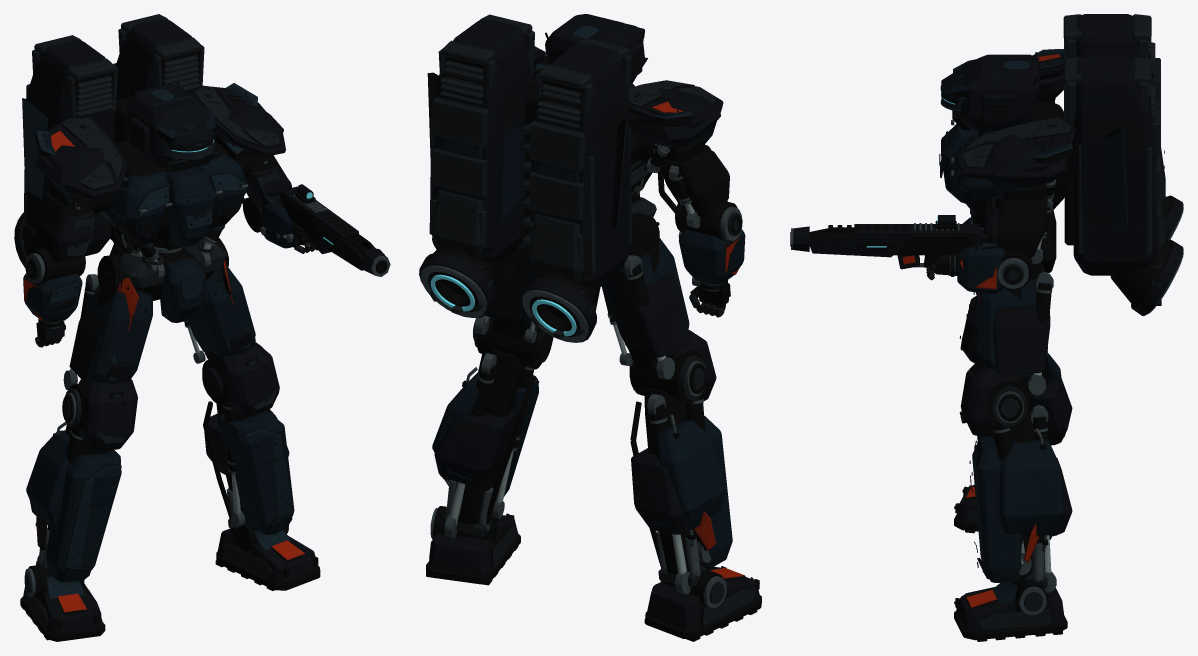
The model's file is m07-cangyan-v11.glb.
3 views of the same model, side by side, from view 1: azimuth 30°, elevation 25°; view 2: azimuth 150°, elevation 25°; view 3: azimuth 270°, elevation 25° (orthographic). The views are drawn at different scales.
Visible parts, largest first — view 1: M07_Upper_armor, M07_Upper_cangyan_armor, M07_Shin_L_armor, M07_Shin_R_armor, M07_Upper_tiechao_armor, M07_Thigh_L_armor, M07_Body_armor, M07_Rifle_armor, M07_Foot_R_armor, M07_Foot_L_armor, M07_Thigh_R_armor, M07_Upper_bailu_armor; view 2: M07_Upper_cangyan_armor, M07_Upper_tiechao_armor, M07_Shin_L_armor, M07_Shin_R_armor, M07_Upper_armor, M07_Thigh_L_armor, M07_Foot_L_armor, M07_Foot_R_armor, M07_Upper_bailu_armor, M07_Thigh_R_armor, M07_Upper_bailu_optics, M07_Body_armor; view 3: M07_Upper_cangyan_armor, M07_Upper_tiechao_armor, M07_Shin_R_armor, M07_Rifle_armor, M07_Upper_armor, M07_Thigh_R_armor, M07_Foot_R_armor, M07_Shin_L_armor, M07_Upper_bailu_armor, M07_Foot_L_armor, M07_Body_armor.
Boxes of the visible parts, bbox=[...] form: M07_Upper_armor: bbox=[23, 139, 291, 347]; M07_Upper_cangyan_armor: bbox=[14, 14, 285, 268]; M07_Shin_L_armor: bbox=[26, 378, 137, 582]; M07_Shin_R_armor: bbox=[202, 341, 294, 534]; M07_Upper_tiechao_armor: bbox=[26, 37, 283, 213]; M07_Thigh_L_armor: bbox=[63, 255, 152, 389]; M07_Body_armor: bbox=[96, 239, 233, 331]; M07_Rifle_armor: bbox=[260, 184, 390, 276]; M07_Foot_R_armor: bbox=[215, 522, 320, 590]; M07_Foot_L_armor: bbox=[20, 558, 105, 641]; M07_Thigh_R_armor: bbox=[184, 238, 255, 363]; M07_Upper_bailu_armor: bbox=[22, 81, 257, 199]; M07_Upper_cangyan_armor: bbox=[419, 14, 723, 342]; M07_Upper_tiechao_armor: bbox=[431, 14, 720, 287]; M07_Shin_L_armor: bbox=[629, 330, 732, 593]; M07_Shin_R_armor: bbox=[432, 317, 553, 537]; M07_Upper_armor: bbox=[532, 83, 745, 317]; M07_Thigh_L_armor: bbox=[601, 213, 689, 379]; M07_Foot_L_armor: bbox=[644, 565, 761, 641]; M07_Foot_R_armor: bbox=[426, 506, 520, 585]; M07_Upper_bailu_armor: bbox=[427, 25, 691, 337]; M07_Thigh_R_armor: bbox=[474, 242, 536, 342]; M07_Upper_bailu_optics: bbox=[430, 274, 576, 336]; M07_Body_armor: bbox=[631, 197, 659, 274]; M07_Upper_cangyan_armor: bbox=[940, 14, 1183, 315]; M07_Upper_tiechao_armor: bbox=[952, 42, 1160, 272]; M07_Shin_R_armor: bbox=[959, 358, 1072, 592]; M07_Rifle_armor: bbox=[790, 215, 1004, 293]; M07_Upper_armor: bbox=[939, 101, 1069, 290]; M07_Thigh_R_armor: bbox=[973, 261, 1053, 395]; M07_Foot_R_armor: bbox=[954, 572, 1067, 641]; M07_Shin_L_armor: bbox=[959, 296, 1072, 450]; M07_Upper_bailu_armor: bbox=[958, 49, 1127, 276]; M07_Foot_L_armor: bbox=[954, 484, 1057, 539]; M07_Body_armor: bbox=[962, 210, 1056, 303].
Size of the model in its own units: 9.44 by 17.16 by 11.53.
3 materials, 1 textured.
